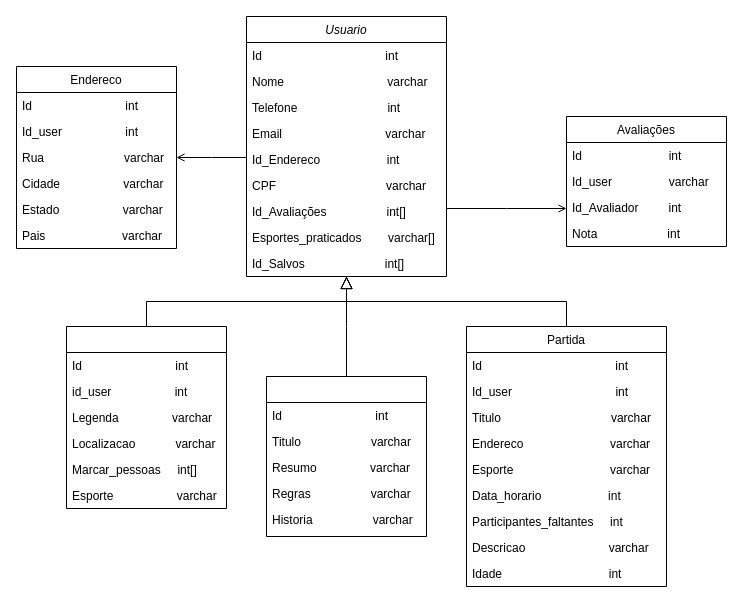
This 743x603 diagram has some shape labels left out. Each missing label, with the box of its shape:
Info_Esportes: (266, 376, 426, 536)
Posts: (66, 326, 226, 508)
